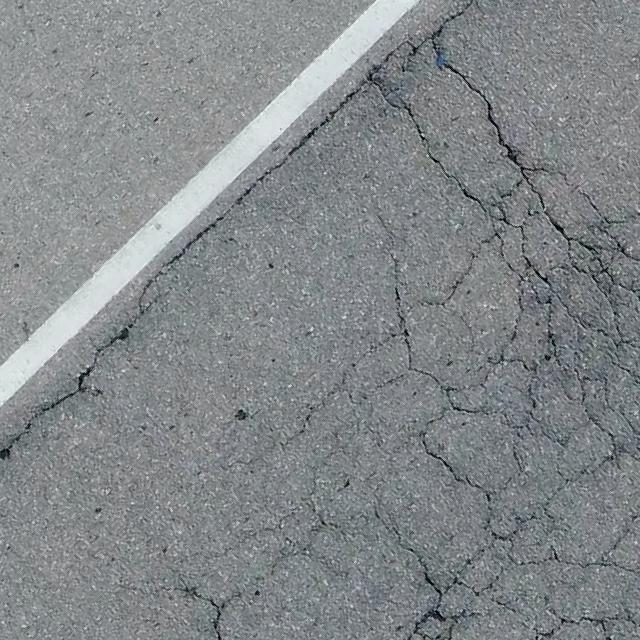GRIETA: (0, 0, 481, 459)
PIEL DE COCODRILO: (161, 38, 639, 639)
